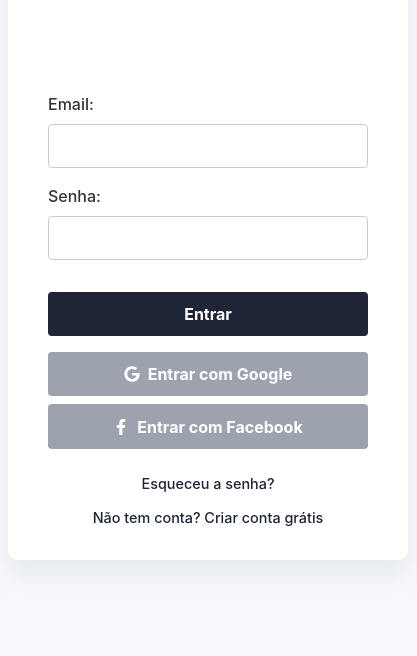
Test: LoginPage › uses the generic login error fallback when the request rejects without details
In the field labelled "Email:": (208, 146) [48,124,368,168], type "julio@teste.com"
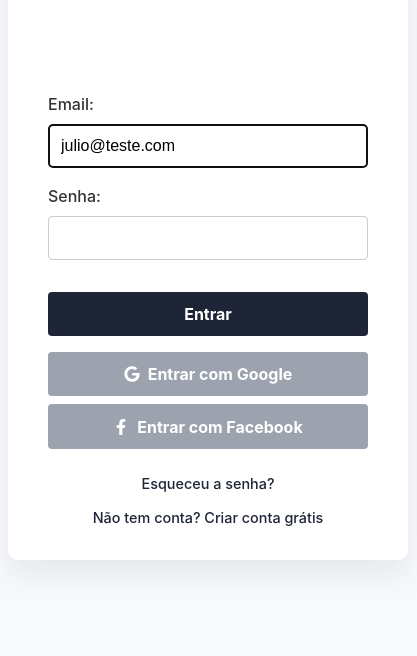
In the password field labelled "Senha:": (208, 238) [48,216,368,260], type "senhaerrada"
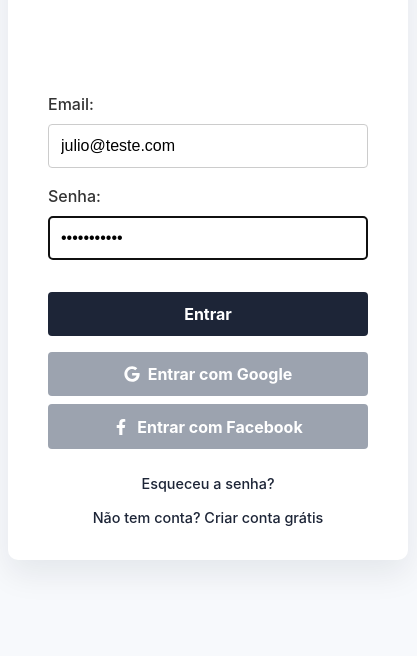
Click the button "Entrar": (208, 314) [48,292,368,336]
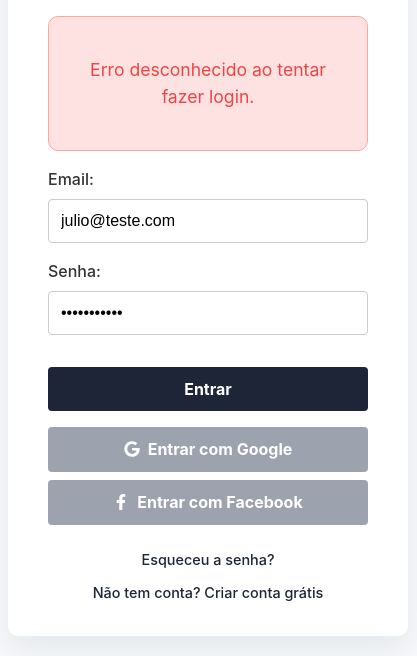
Expected: the text "Erro desconhecido ao tentar fazer login." is shown, [48,16,368,151]
